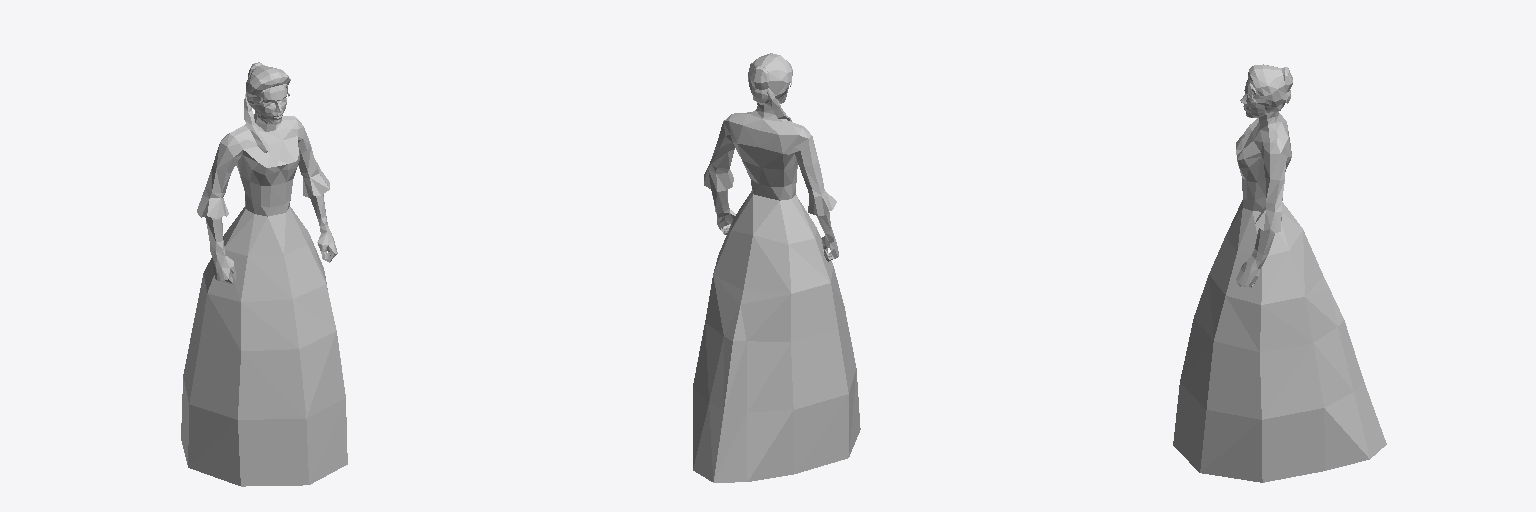
File: diz.obj
3 views of the same model, side by side, from view 1: azimuth 30°, elevation 25°; view 2: azimuth 150°, elevation 25°; view 3: azimuth 270°, elevation 25° (orthographic).
Parts seen in each view (by area): view 1: (null); view 2: (null); view 3: (null).
Part boxes in pixels (bbox=[...]): (null): bbox=[181, 62, 347, 486]; (null): bbox=[693, 53, 860, 482]; (null): bbox=[1173, 64, 1386, 482].
Bounding box in the file's own units: 0.6715 × 1.65 × 0.8362.